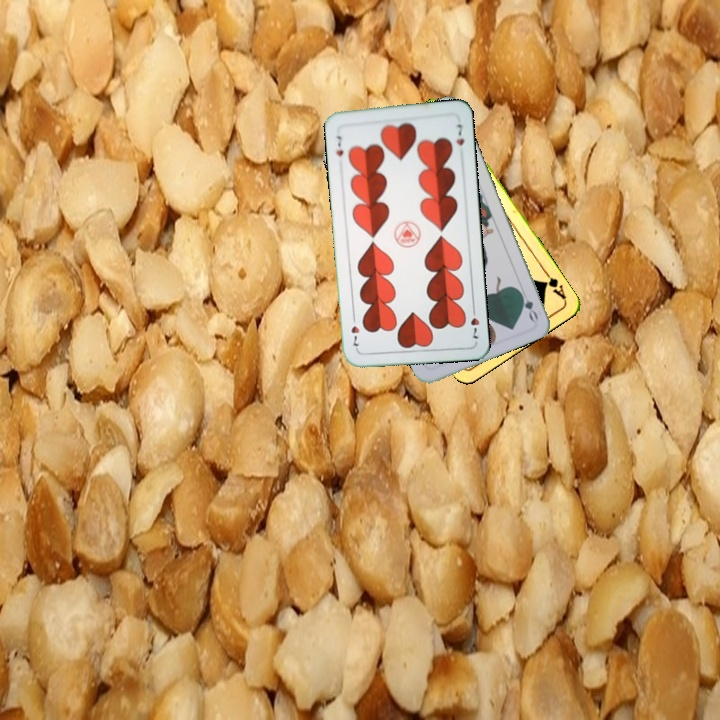GA: (539, 267, 569, 302)
GO: (514, 284, 541, 324)
H7: (467, 303, 482, 341), (332, 131, 346, 159)
